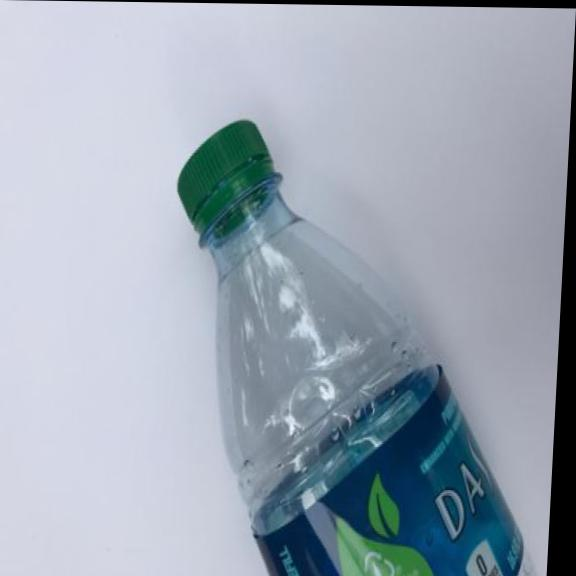Plastik: (152, 89, 570, 576)
